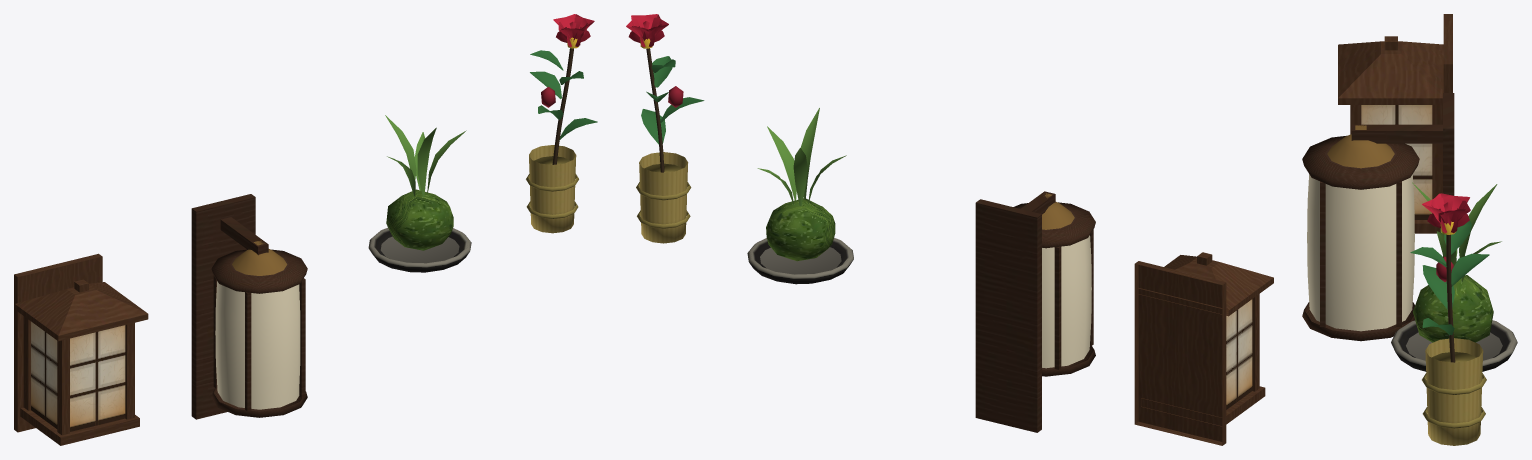
Rendered from wcdecor.glb.
3 renders of one model, left to right at view 1: azimuth 30°, elevation 25°; view 2: azimuth 150°, elevation 25°; view 3: azimuth 270°, elevation 25°, orthographic. The views are drawn at different scales.
Parts seen in each view (by area): view 1: WcLantern, WcAndon, WcLanternPaper, WcAndonPaper, Kokedama, Camellia; view 2: WcAndon, WcLantern, Kokedama, Camellia, WcLanternPaper, WcAndonPaper; view 3: WcLanternPaper, WcLantern, Camellia, WcAndon, Kokedama, WcAndonPaper.
Boxes of the visible parts, box(x1,y1,x2,y2) form: WcLantern: box(191, 194, 307, 419); WcAndon: box(14, 253, 148, 445); WcLanternPaper: box(215, 281, 300, 409); WcAndonPaper: box(31, 321, 125, 431); Kokedama: box(368, 115, 471, 272); Camellia: box(526, 14, 597, 233); WcAndon: box(1134, 252, 1273, 445); WcLantern: box(975, 191, 1095, 432); Kokedama: box(747, 108, 853, 284); Camellia: box(626, 14, 704, 243); WcLanternPaper: box(1042, 235, 1091, 368); WcAndonPaper: box(1226, 299, 1252, 409); WcLanternPaper: box(1307, 174, 1414, 331); WcLantern: box(1302, 93, 1454, 341); Camellia: box(1410, 193, 1489, 445); WcAndon: box(1338, 14, 1452, 233); Kokedama: box(1391, 182, 1517, 371); WcAndonPaper: box(1361, 105, 1432, 219).
Bounding box in the file's own units: 0.8735 × 0.4372 × 0.231.
15 materials, 6 textured.
